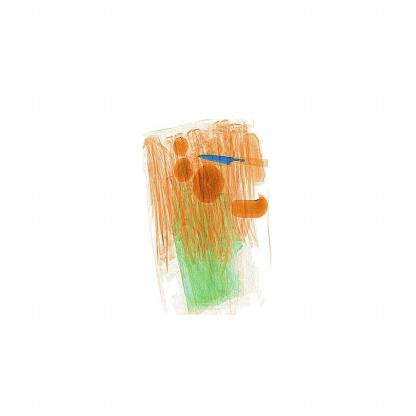wrench: (182, 149, 268, 176)
